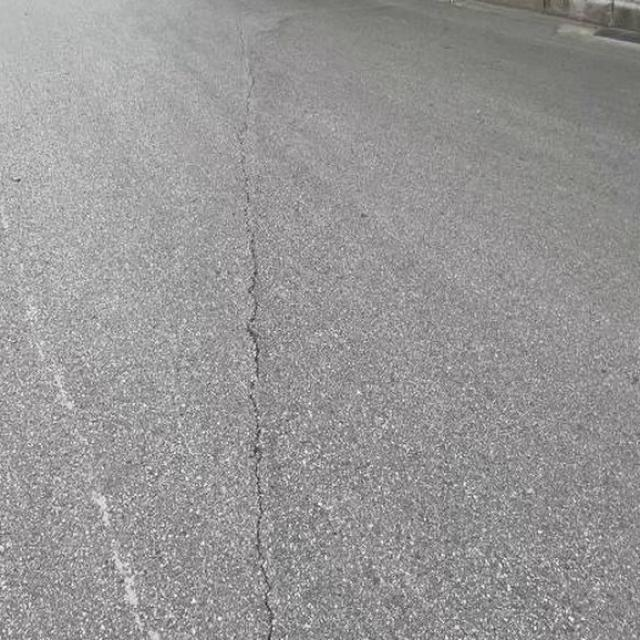Memanjang: (220, 13, 292, 640)
